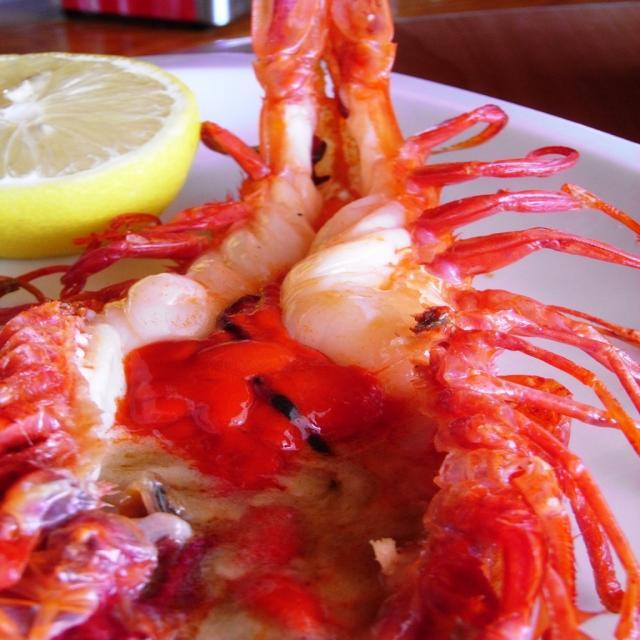Lemon: (0, 53, 198, 260)
